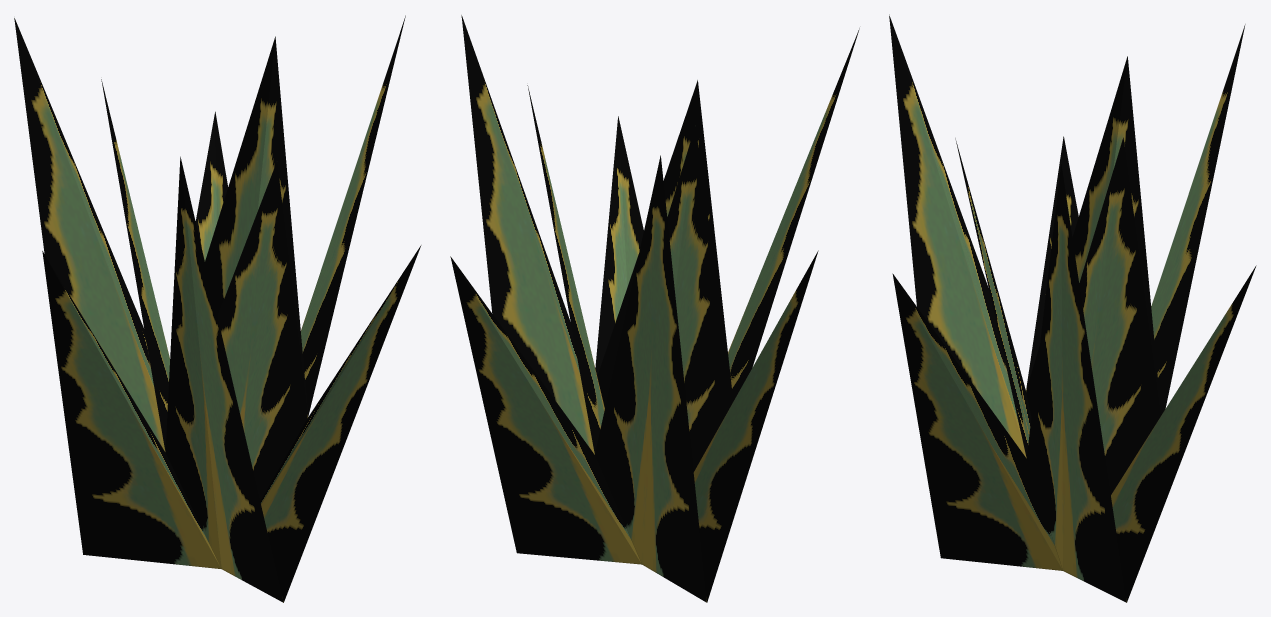
Rendered from grass_Vmori.obj.
The picture shows the model from 3 angles, left to right: view 1: azimuth 30°, elevation 25°; view 2: azimuth 150°, elevation 25°; view 3: azimuth 270°, elevation 25°; orthographic projection. The views are drawn at different scales.
Bounding box in the file's own units: 71.8 × 96.71 × 65.13.
Materials: 1 (1 with a texture image).
